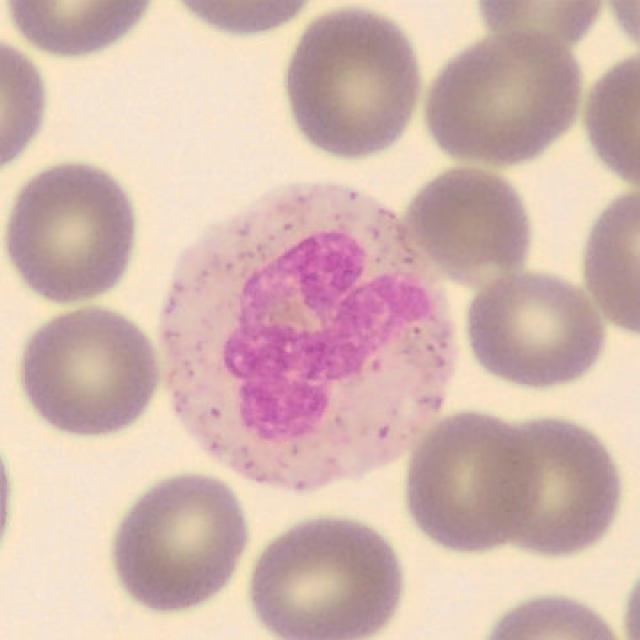Neutrofilo segmentado: (158, 181, 457, 494)
